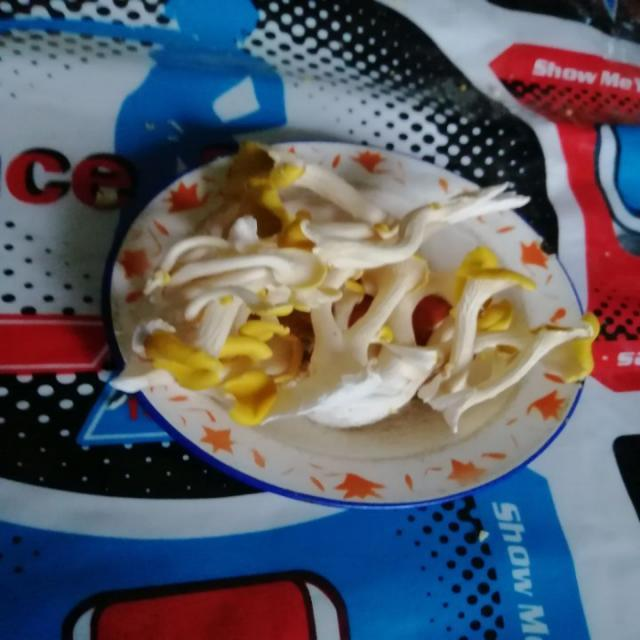Pleurotus citrinopileatus: (118, 152, 593, 440)
